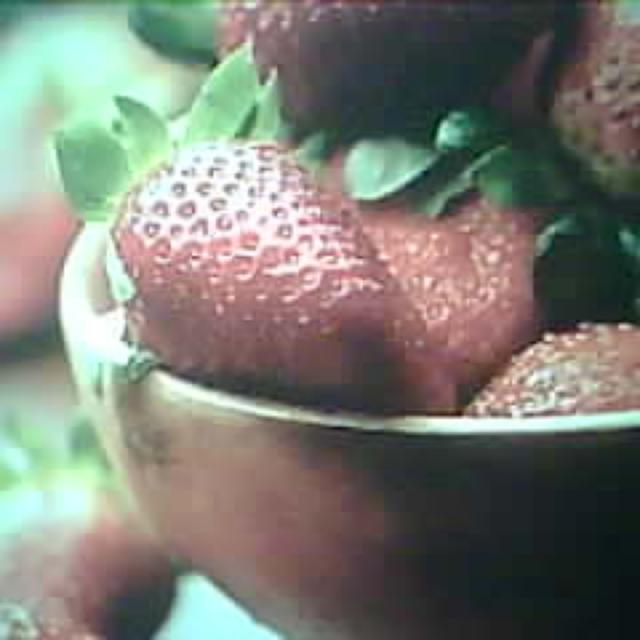strawberry: (112, 143, 393, 404)
